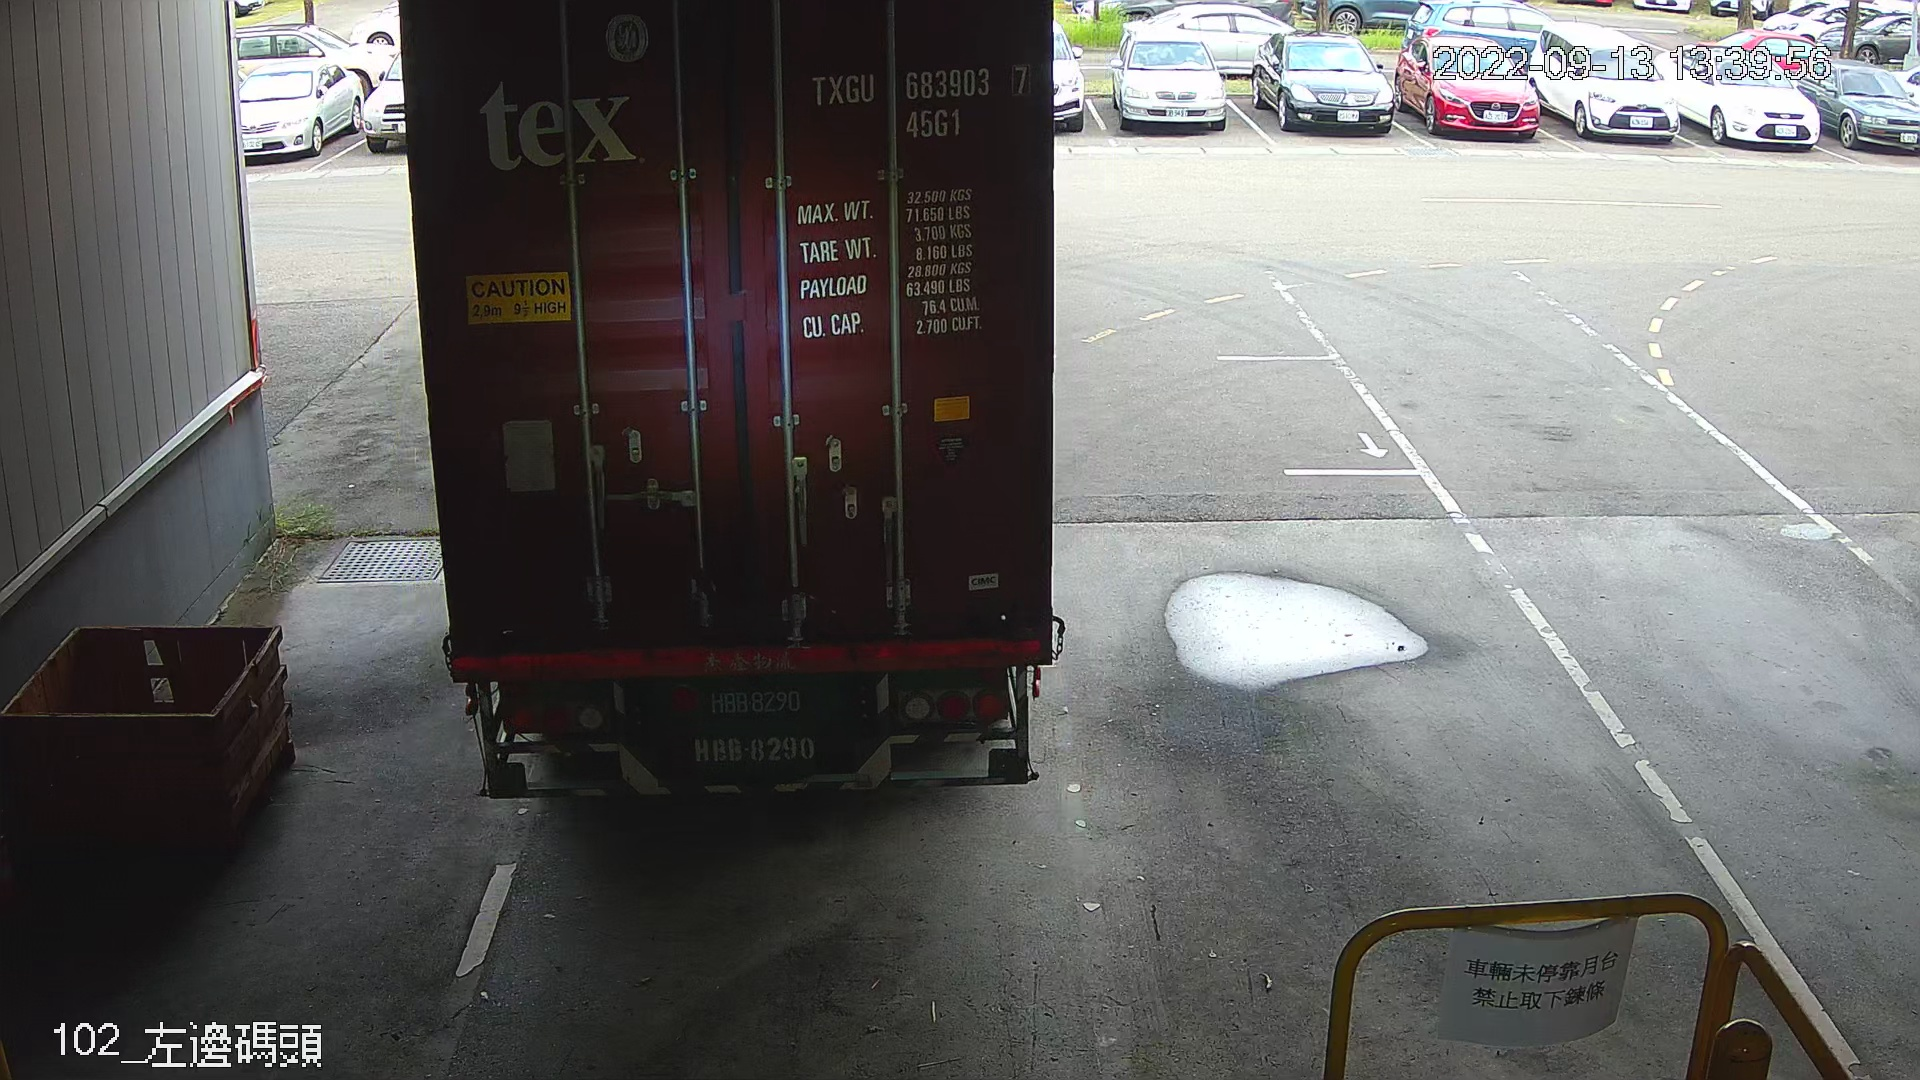container: (803, 58, 1038, 148)
